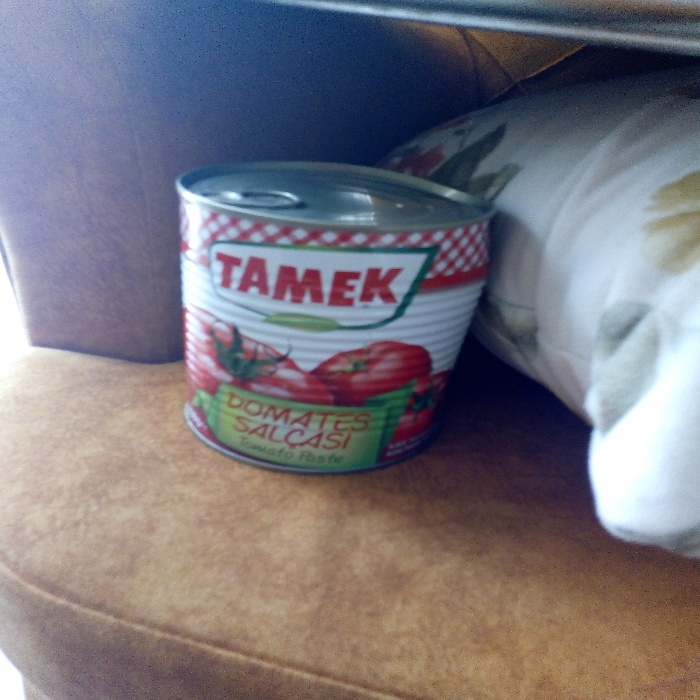salca: (151, 124, 492, 465)
